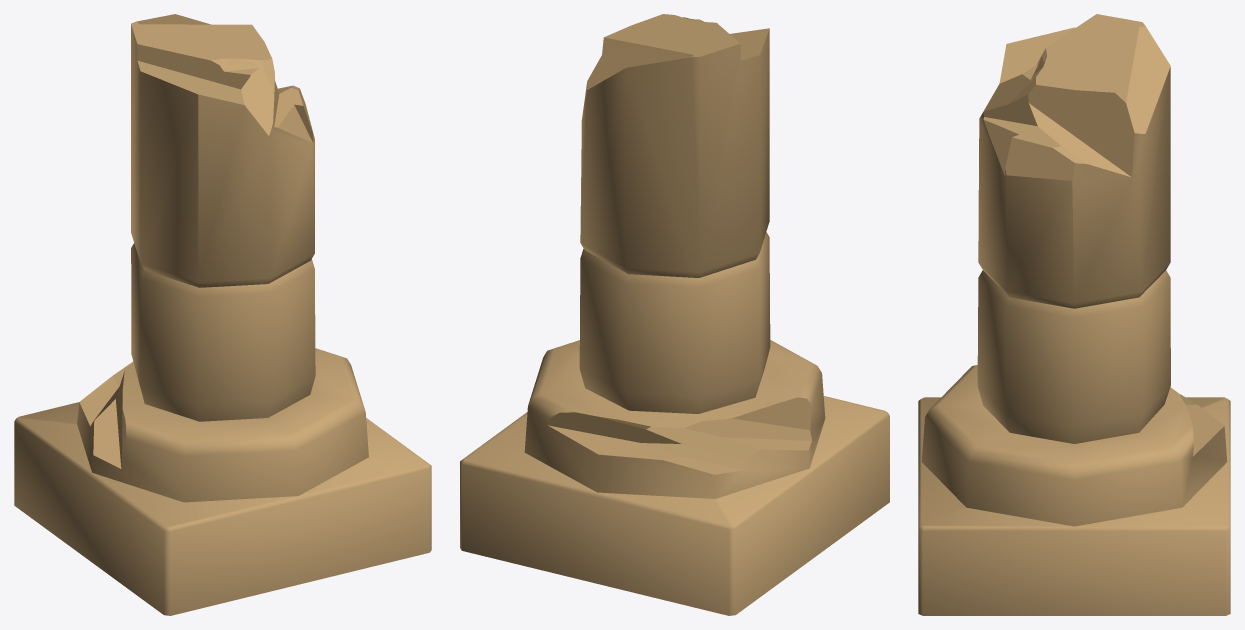
File: BrokenRuin_pillar_03.fbx
3 renders of one model, left to right at view 1: azimuth 30°, elevation 25°; view 2: azimuth 150°, elevation 25°; view 3: azimuth 270°, elevation 25°, orthographic. The views are drawn at different scales.
Parts seen in each view (by area): view 1: pillarBase_01; view 2: pillarBase_01; view 3: pillarBase_01.
Part boxes in pixels (<box>): pillarBase_01: <box>14,14,431,615</box>; pillarBase_01: <box>460,14,889,615</box>; pillarBase_01: <box>918,14,1230,615</box>.
Bounding box in the file's own units: 200 × 352 × 200.
